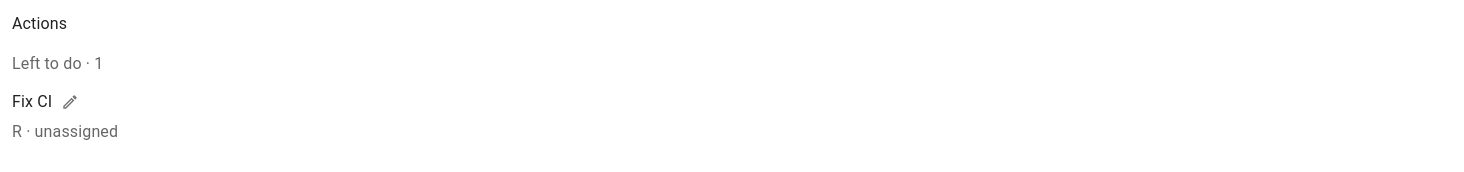
Scenario: ActionList › saves the edited text on Enter, trimmed
The width and height of the screenshot is (1464, 172).
Click the button named "Edit this action" at {"x": 70, "y": 102}, box [56, 88, 84, 116]
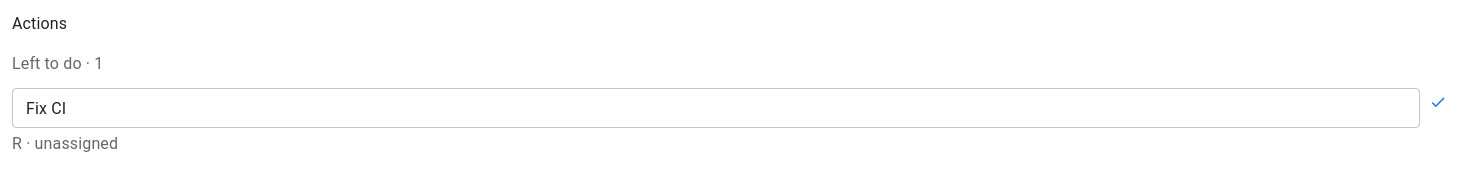
Replace the text in the field named "Action text" with "  Fix the CI  " at {"x": 716, "y": 108}, box [12, 88, 1420, 128]
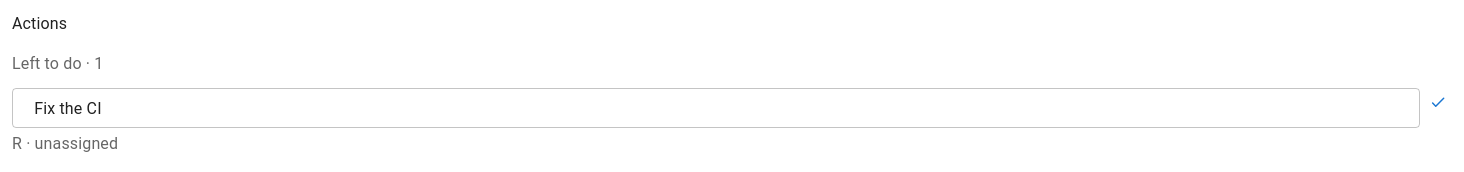
Press Enter in the field named "Action text", box [12, 88, 1420, 128]
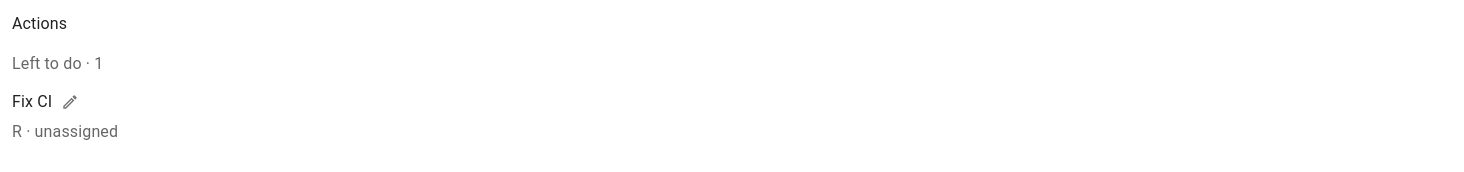
Check: the field labelled "Action text" is gone
